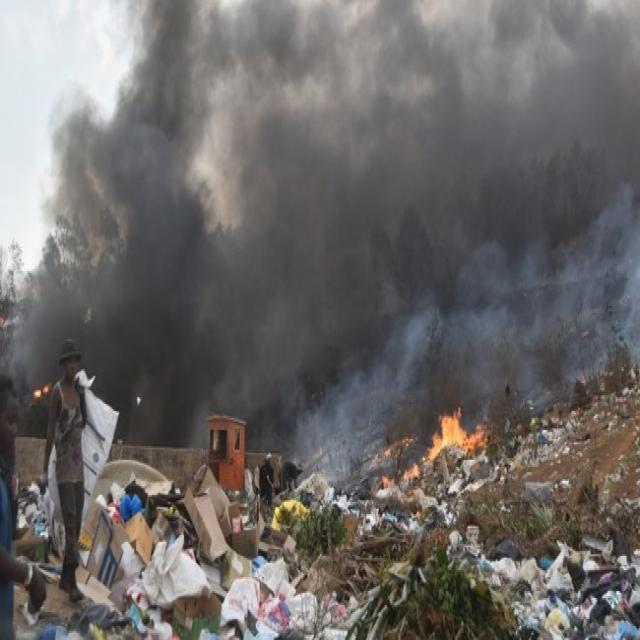Fire: (419, 402, 484, 464)
Smoke: (27, 3, 627, 482)
